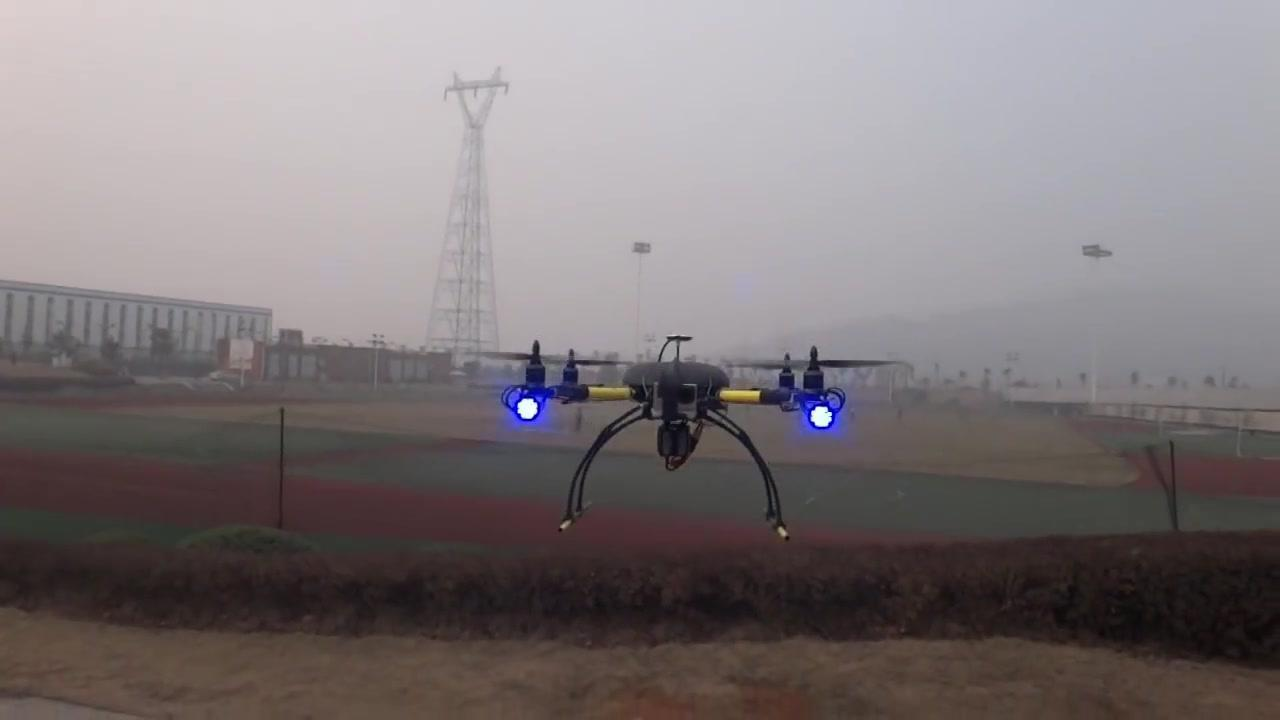UAV: (472, 337, 898, 542)
